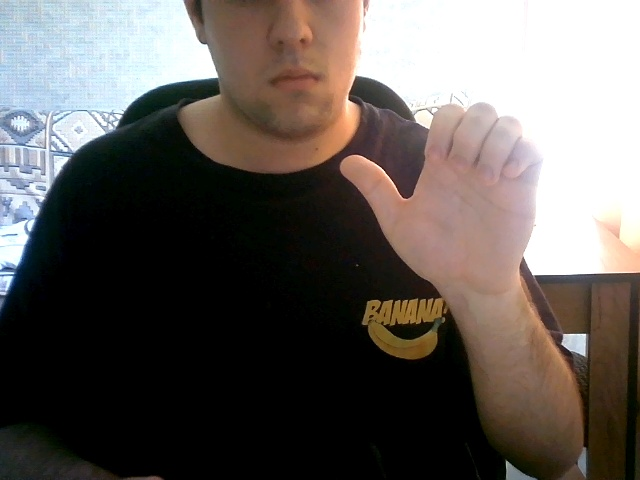goodbye: (327, 94, 593, 267)
